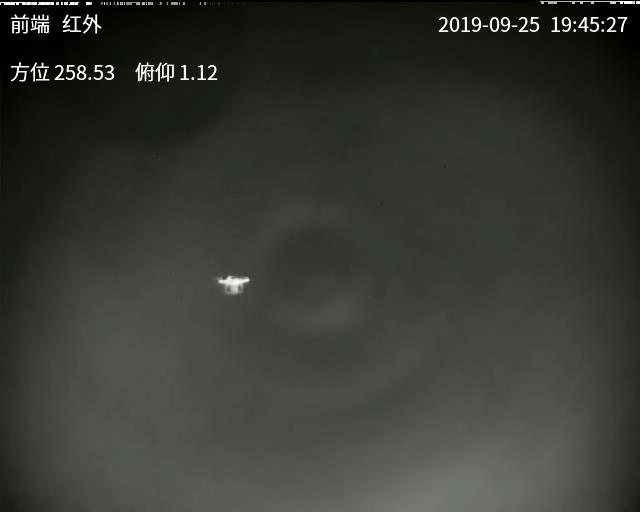uav: (211, 271, 253, 294)
